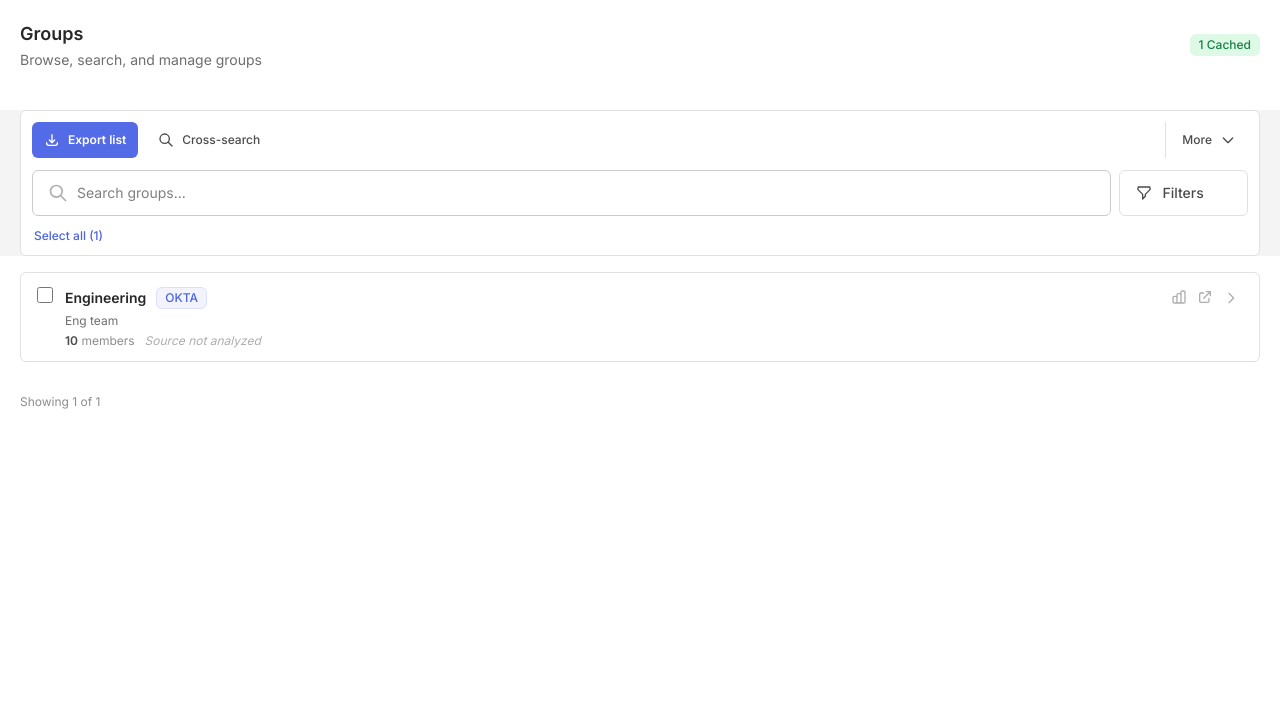
Test: GroupsTab sub-navigation › pushes a detail view and swaps the single header in place
The image size is (1280, 720).
Expected: the heading reads "Groups", [20, 23, 83, 44]
Click the button named "Expand Engineering": (1231, 298) [1219, 286, 1243, 310]
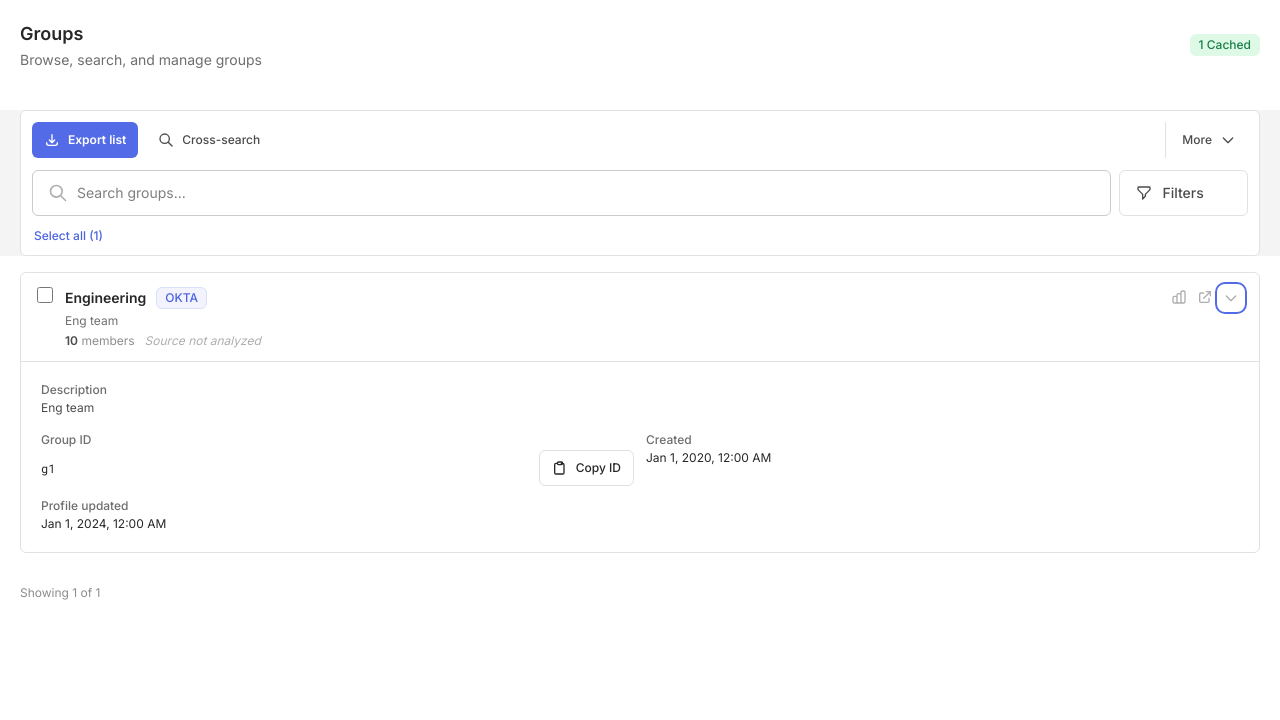
Click the button named "View group details": (640, 317) [21, 273, 1259, 361]
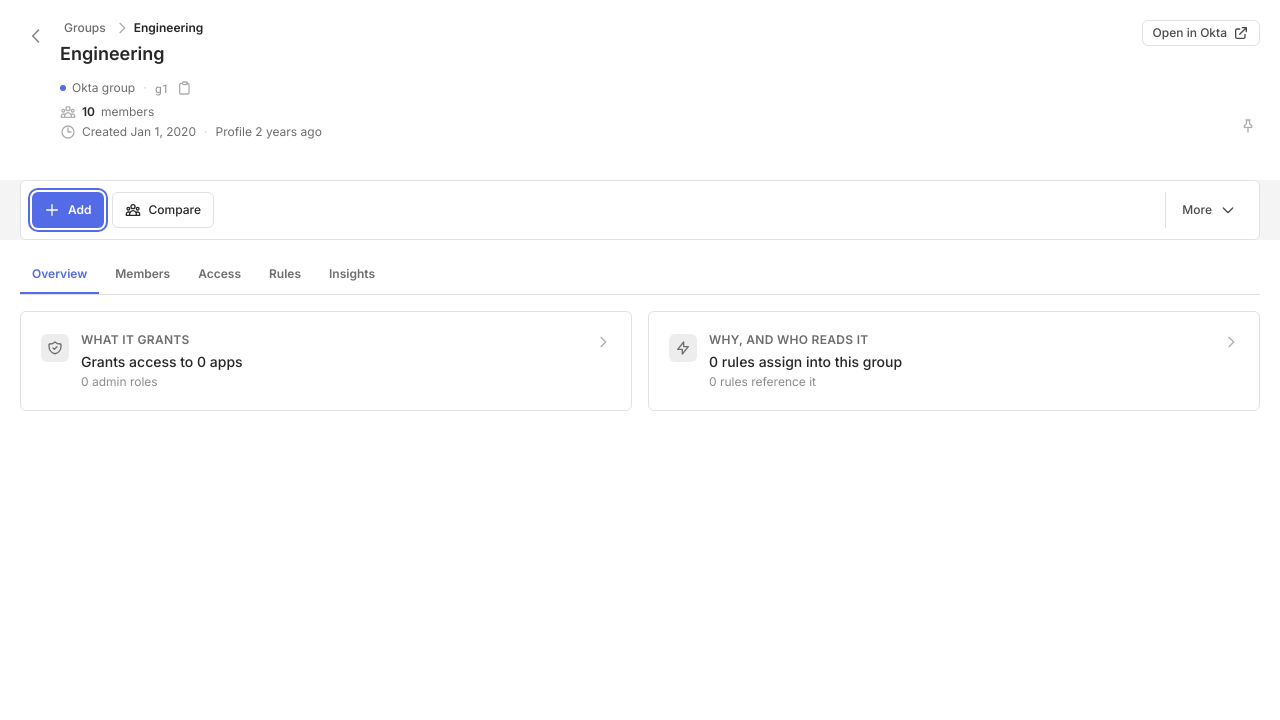
Expected: the number of headings is 1, [60, 43, 164, 64]
Now the heading reads "Engineering", box [60, 43, 164, 64]
Now the element with test id "group-detail-view" is shown, box [20, 180, 1260, 411]
